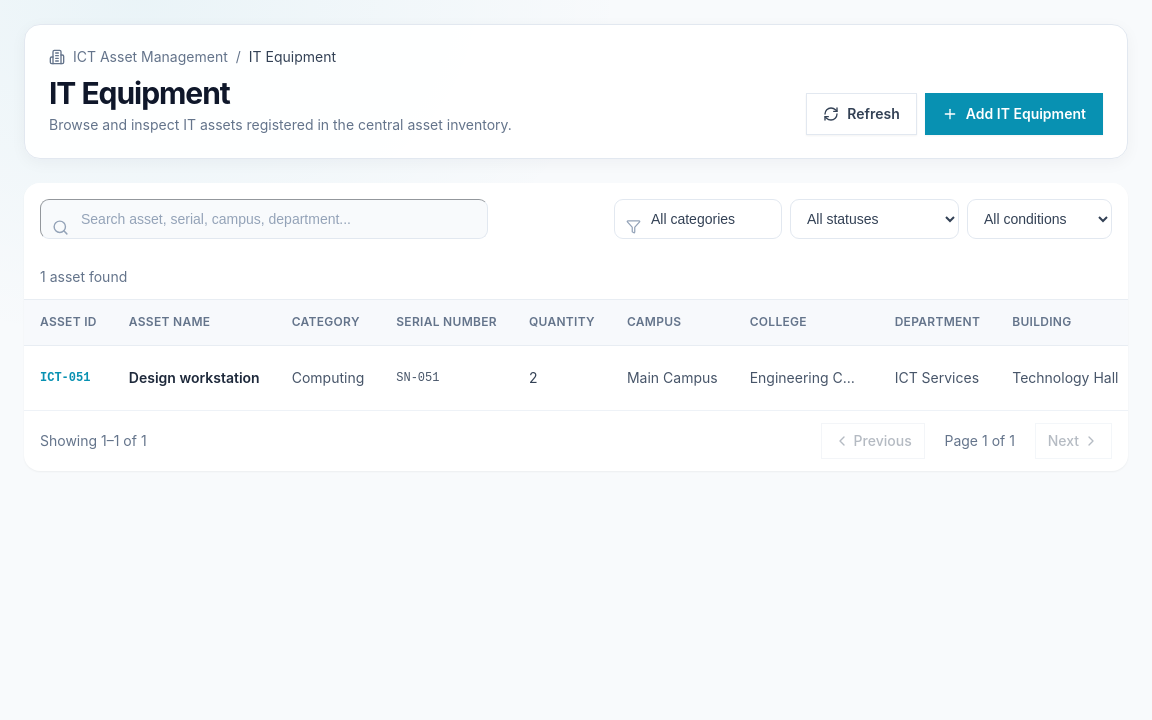
Test: ICTEquipment › adds equipment through the API and reloads the database-backed list
Check: the text "Design workstation" is shown, box [129,368,260,388]
Click the button "Add IT Equipment": (1014, 114) [925,93,1103,135]
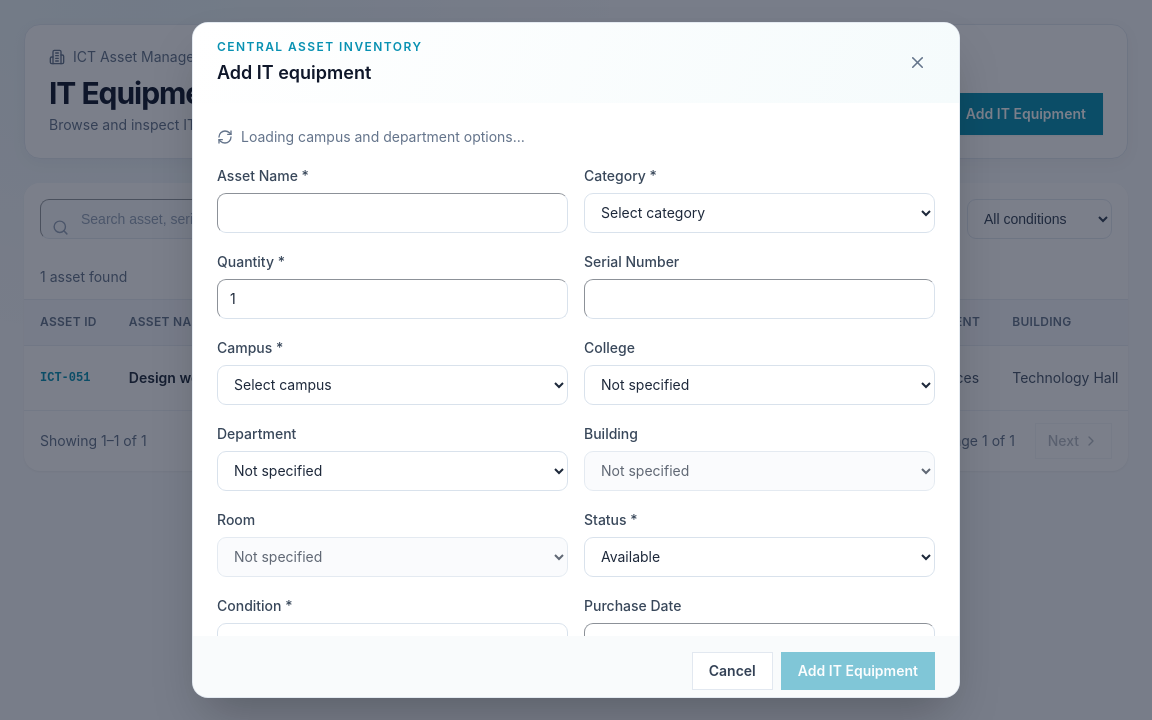
Check: the dialog "Add IT equipment" is shown
In the field labelled "Asset Name *": (392, 213) [217,193,568,233], type "New workstation"
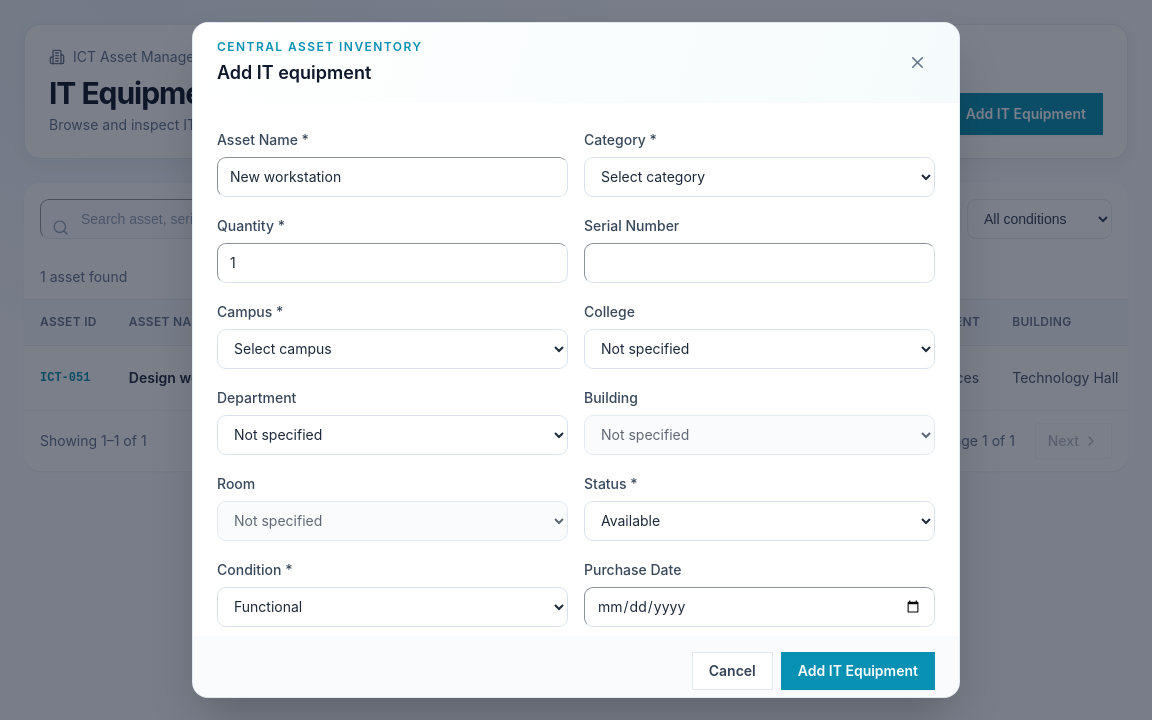
Select "Computing" in the dropdown labelled "Category *": (760, 177) [584,157,935,197]
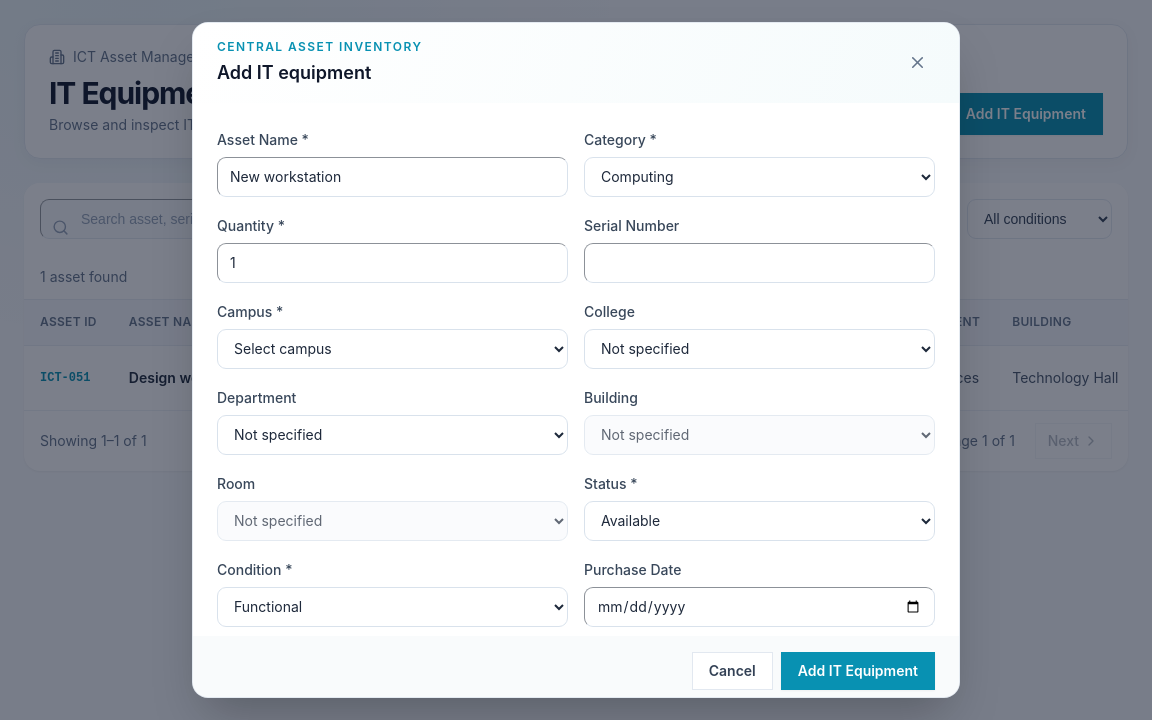
Replace the text in the number field labelled "Quantity *" with "3": (392, 263) [217,243,568,283]
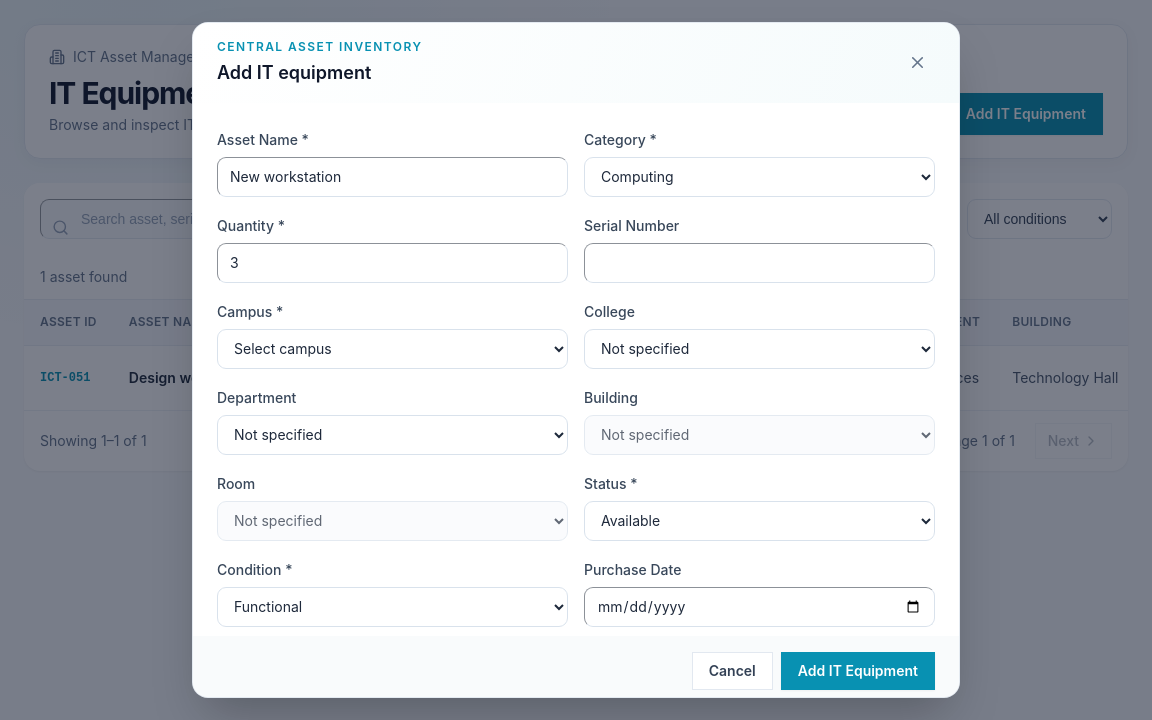
Select "Main Campus" in the dropdown labelled "Campus *": (392, 349) [217,329,568,369]
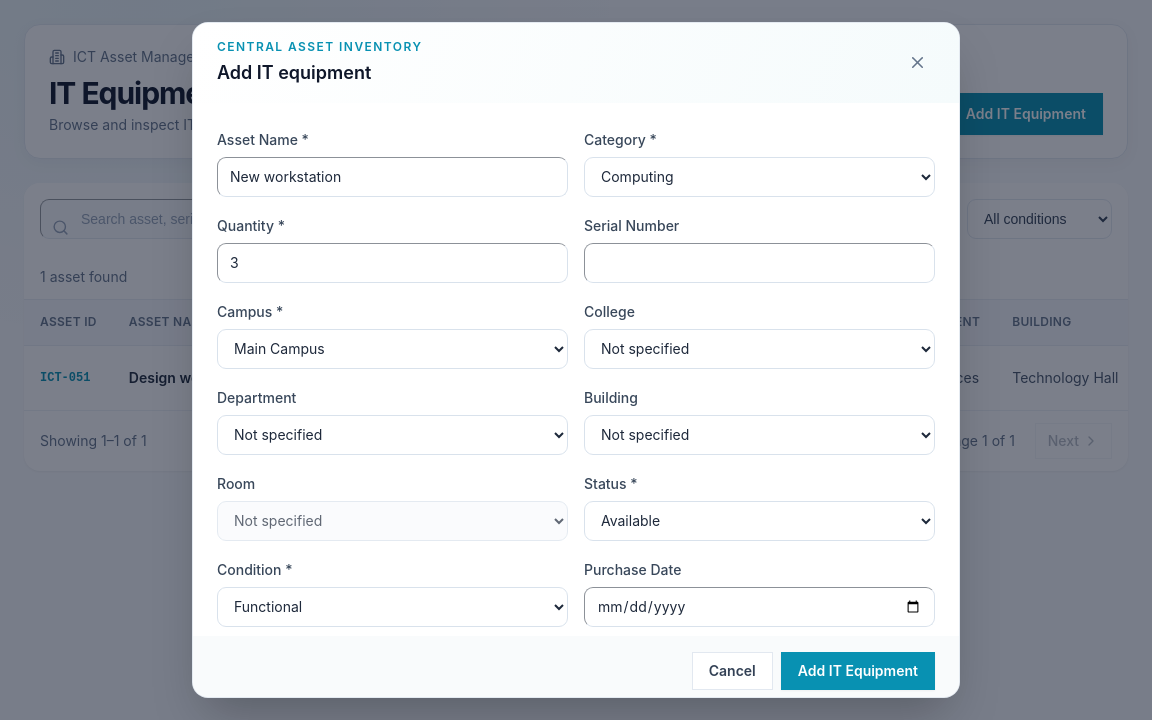
Click the button "Add IT Equipment": (858, 671) [781,652,935,690]
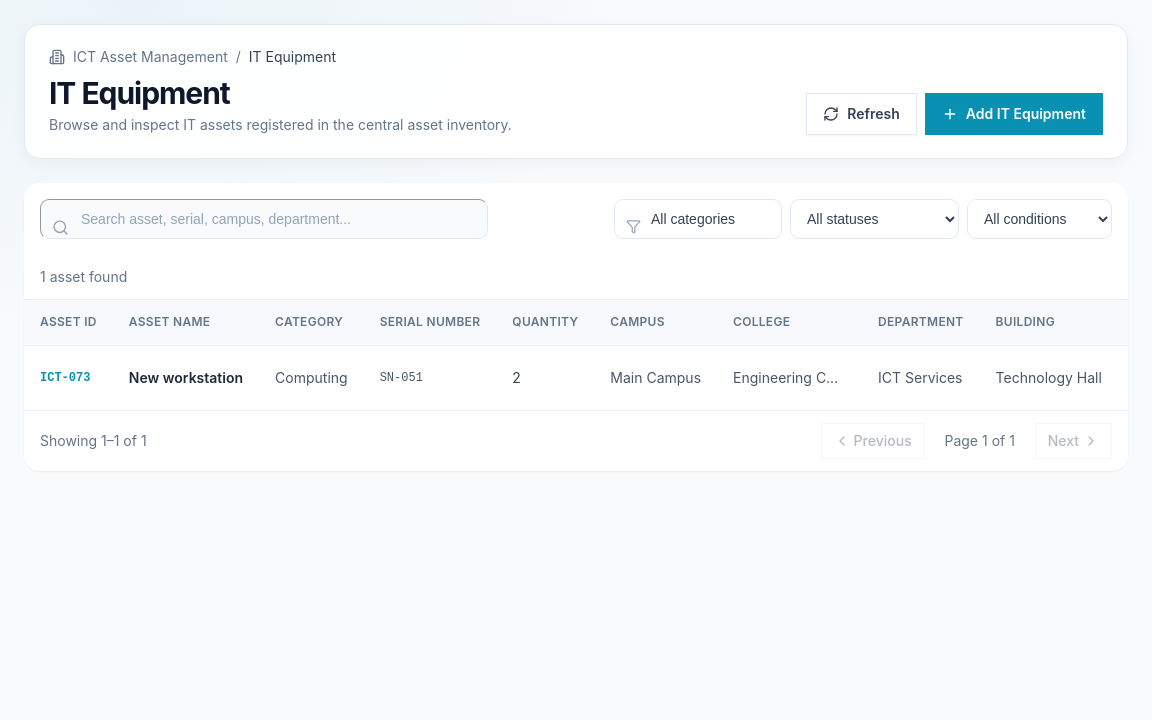
Check: the text "New workstation" is shown, box [129,368,243,388]
